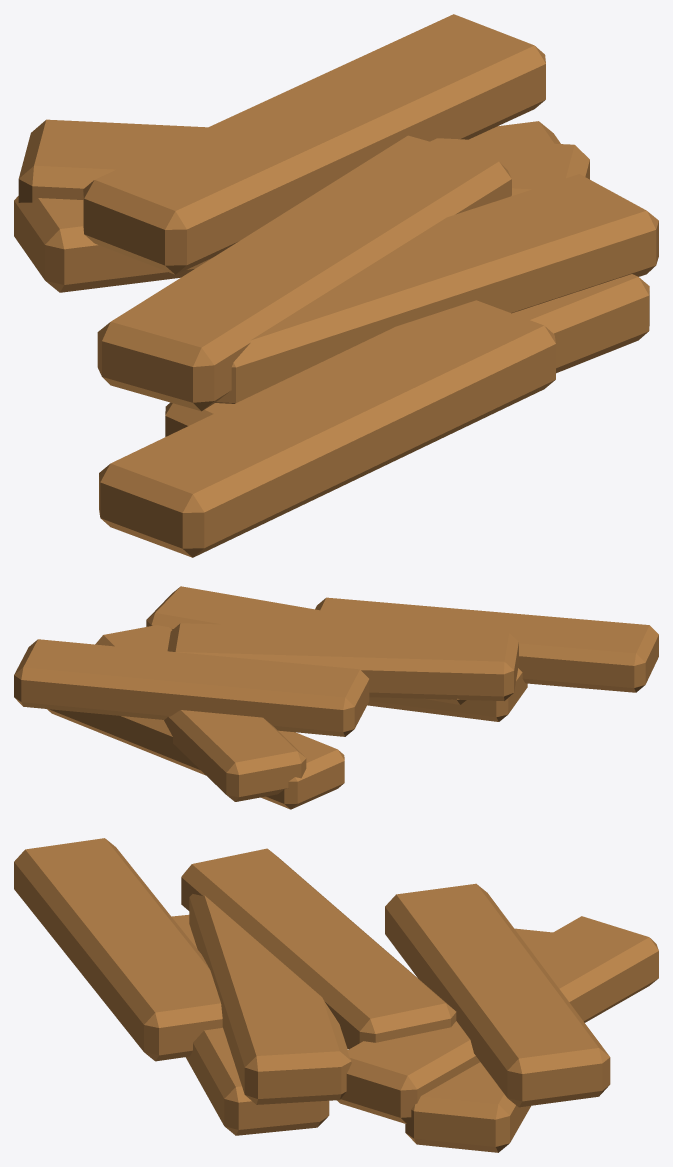
File: debris_crate.glb
The picture shows the model from 3 angles, top to bottom: view 1: azimuth 30°, elevation 25°; view 2: azimuth 150°, elevation 25°; view 3: azimuth 270°, elevation 25°; orthographic projection. The views are drawn at different scales.
Parts seen in each view (by area): view 1: Broken_crate_plank; view 2: Broken_crate_plank; view 3: Broken_crate_plank.
Boxes of the visible parts, bbox=[...] form: Broken_crate_plank: bbox=[14, 14, 658, 557]; Broken_crate_plank: bbox=[14, 586, 658, 809]; Broken_crate_plank: bbox=[14, 838, 658, 1152].
Bounding box in the file's own units: 1.06 × 0.198 × 1.08.
